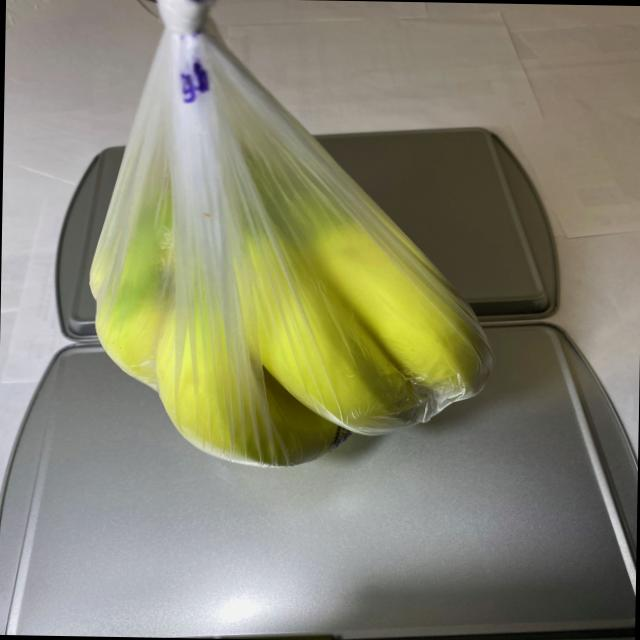banana: (84, 152, 503, 474)
